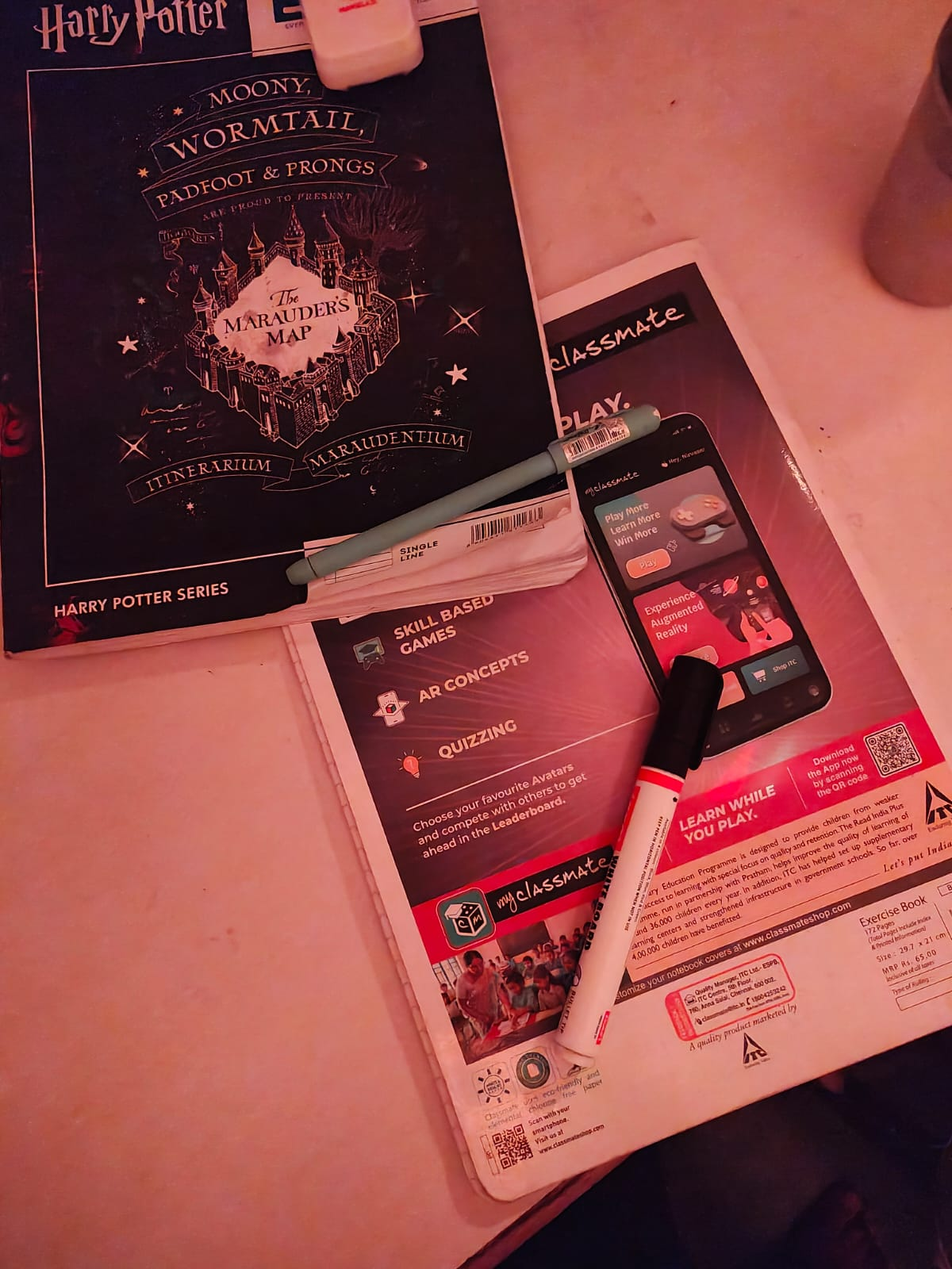case: (518, 639, 739, 1084)
pen: (274, 398, 677, 596)
